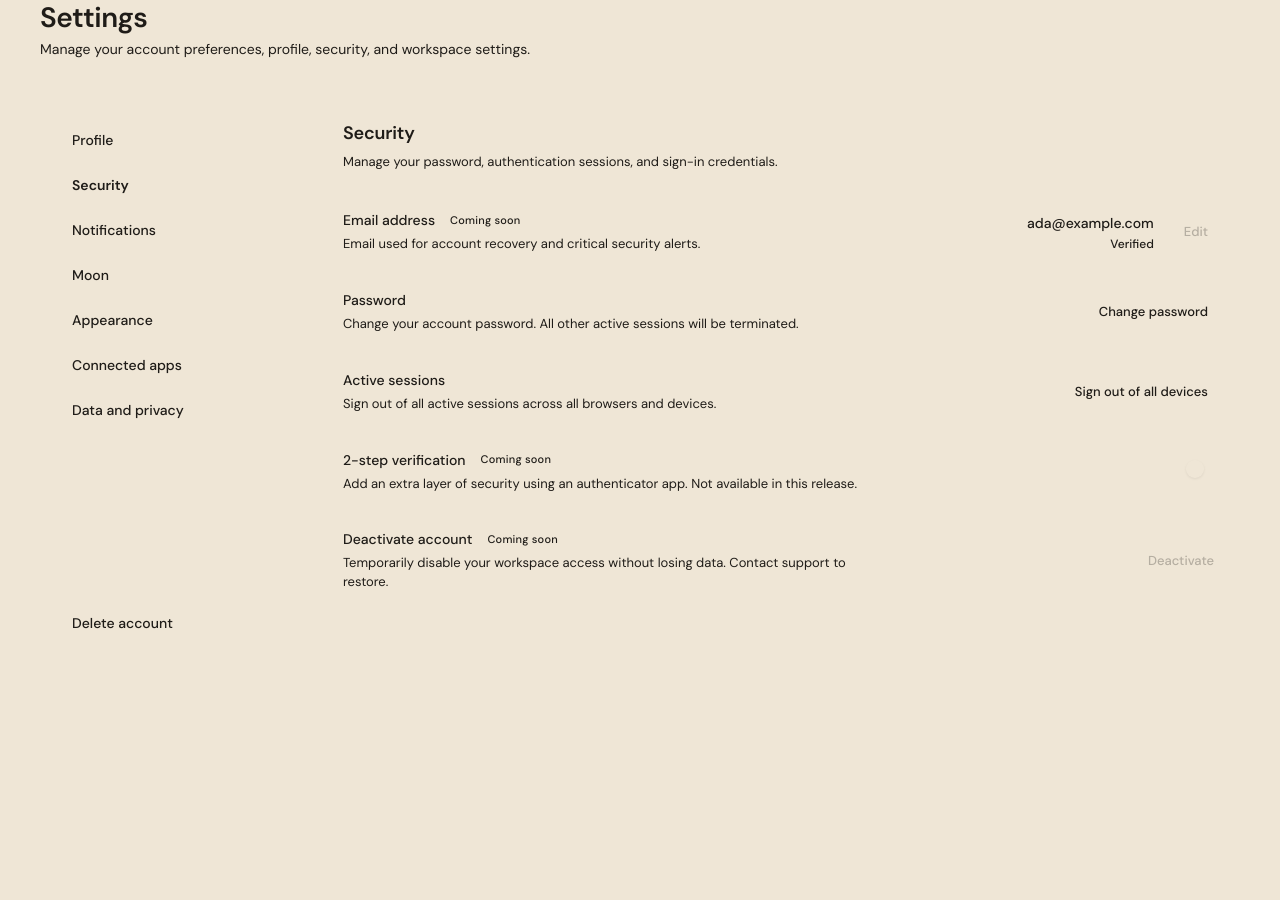
Scenario: Settings Hub — Phase 1 › Change Password Modal › maps API errors to field-level message in modal
Click the button "Change password" at (1153, 312), box [1085, 296, 1222, 328]
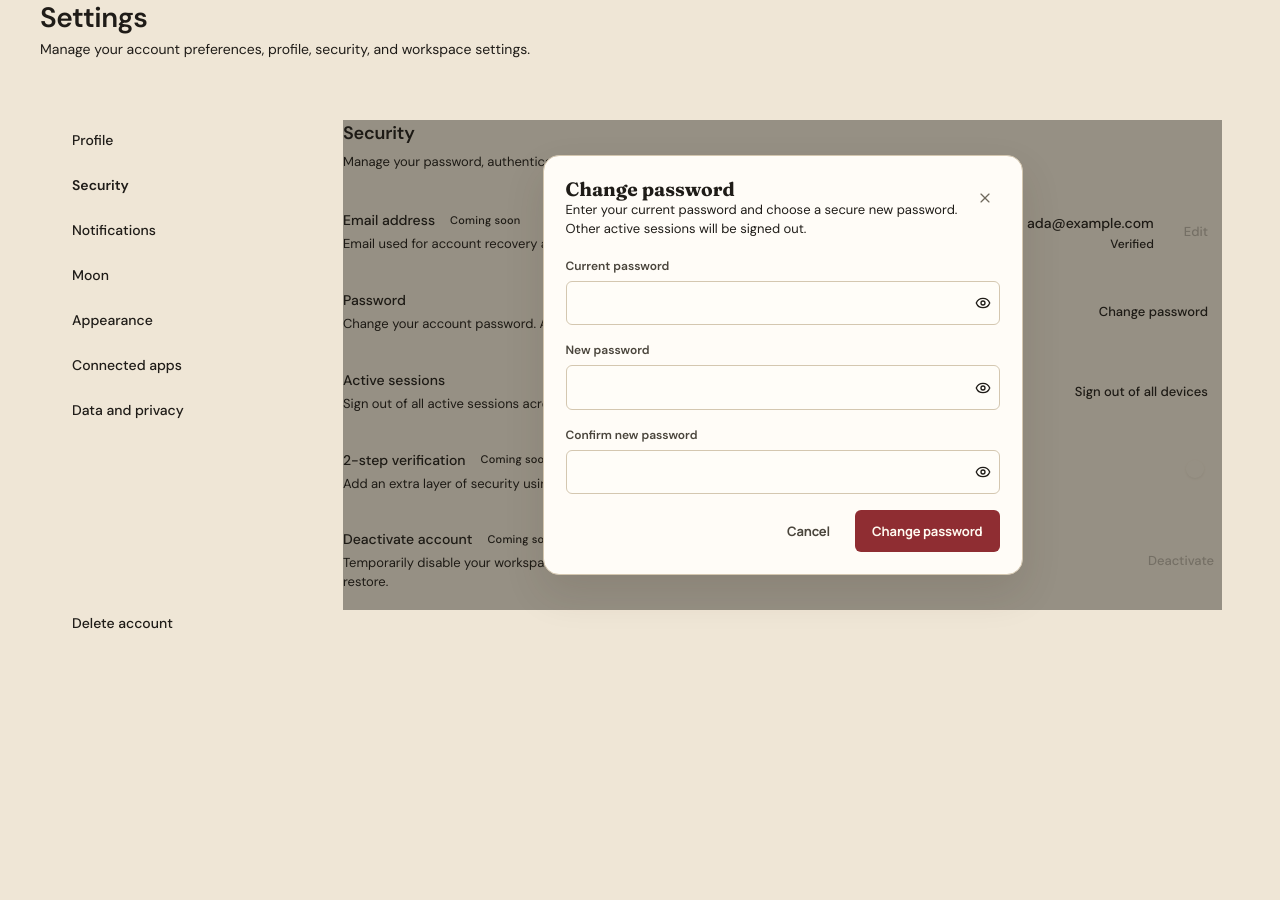
Type "WrongCurrentPass" into the password field labelled "Current password" at (767, 303), box [566, 282, 968, 324]
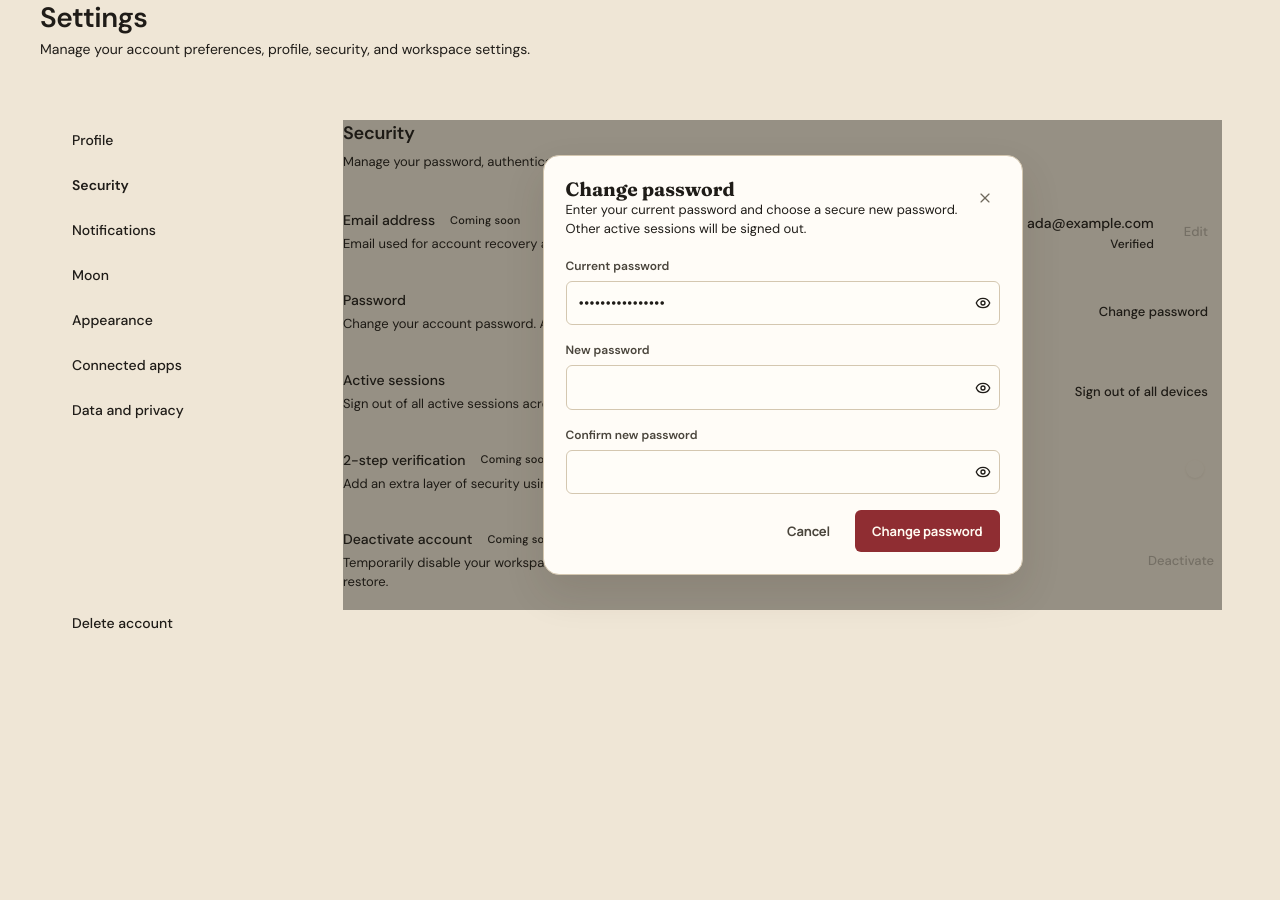
Type "NewSecurePass123!" into the password field labelled "New password" at (767, 388), box [566, 366, 968, 409]
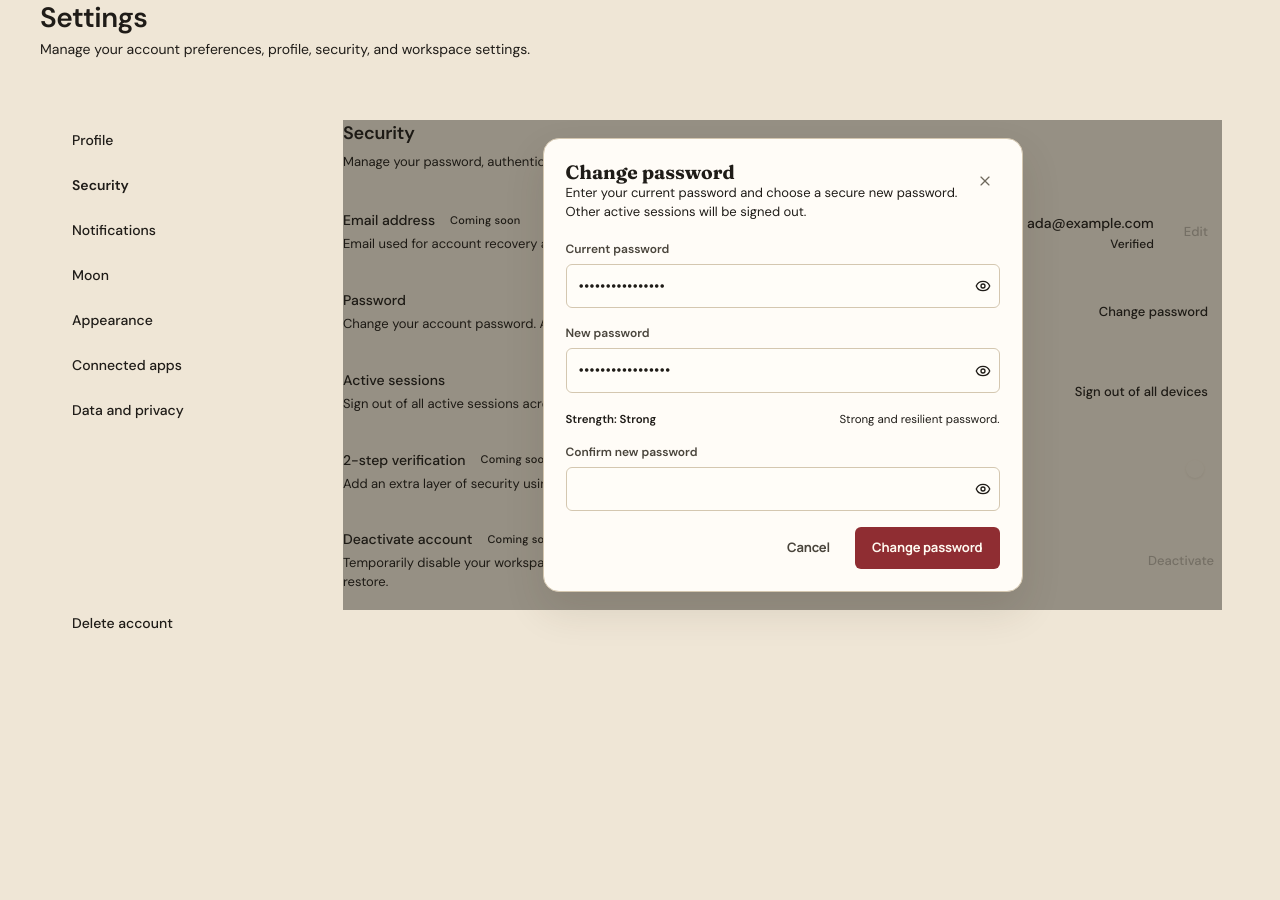
Type "NewSecurePass123!" into the password field labelled "Confirm new password" at (767, 489), box [566, 468, 968, 510]
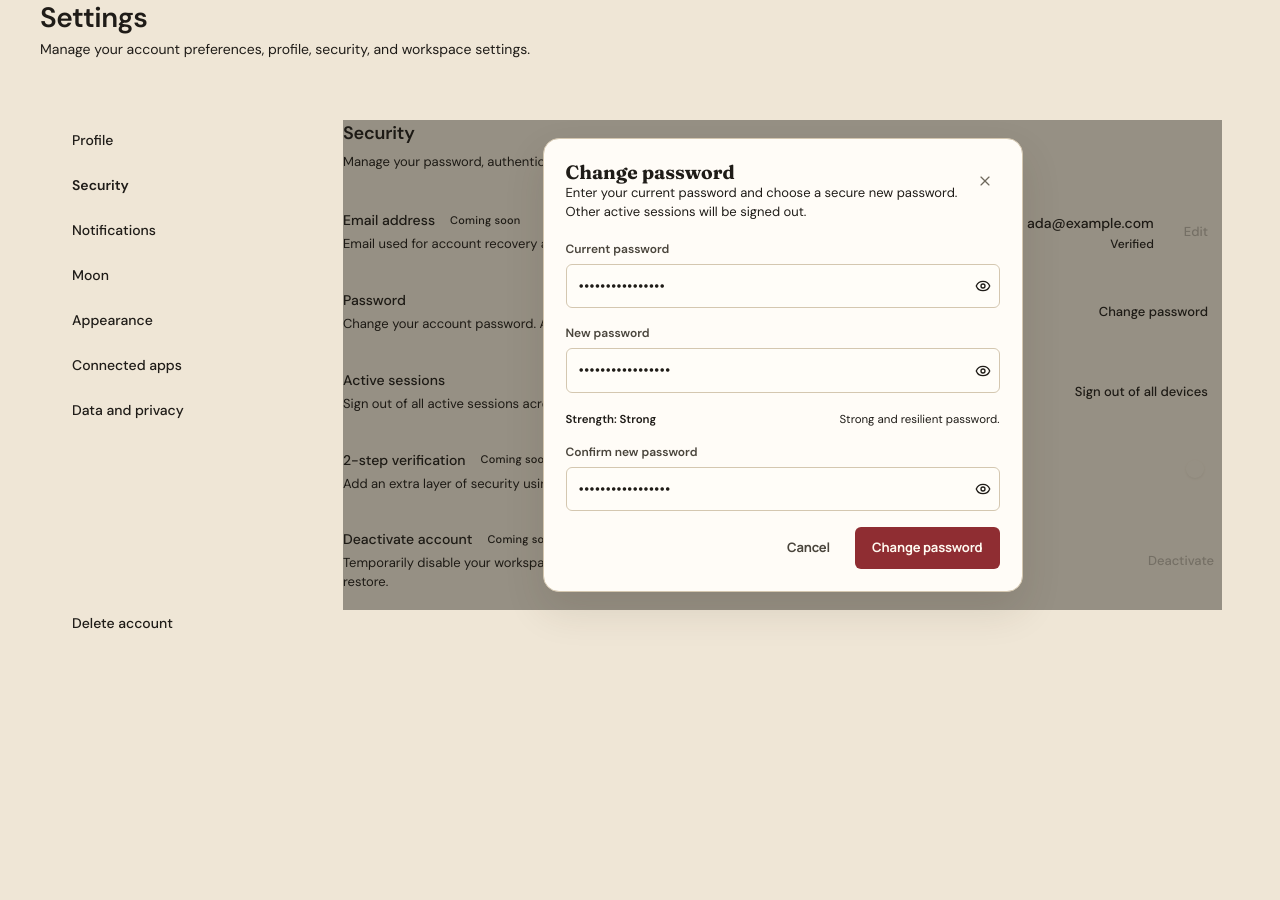
Click the button "Change password" at (927, 548), box [855, 527, 1000, 569]
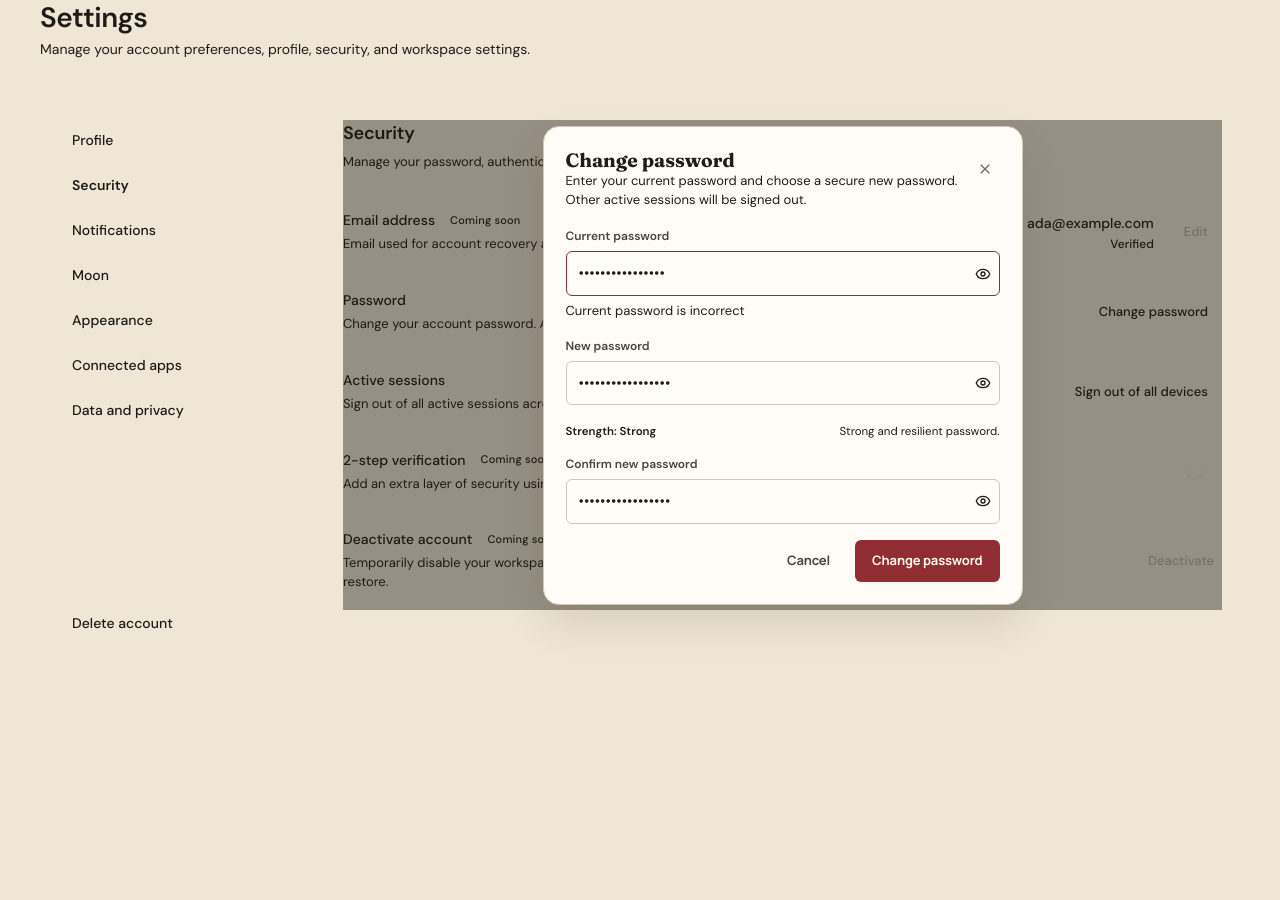
Expected: the dialog is shown, [542, 126, 1022, 605]
Expected: the text "Current password is incorrect" is shown, [566, 302, 745, 319]
